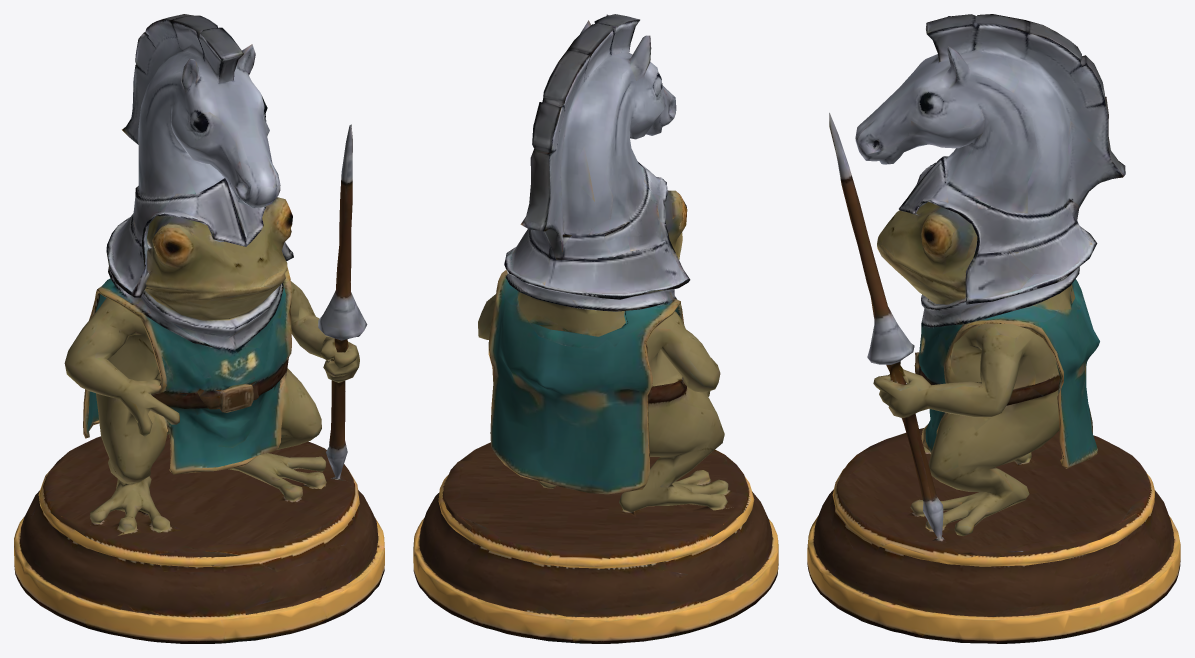
File: trellis-knight-ally.glb
The picture shows the model from 3 angles, left to right: view 1: azimuth 30°, elevation 25°; view 2: azimuth 150°, elevation 25°; view 3: azimuth 270°, elevation 25°; orthographic projection. The views are drawn at different scales.
Visible parts, largest first — view 1: world; view 2: world; view 3: world.
Boxes of the visible parts, <box> form: world: <box>14,14,384,643</box>; world: <box>413,14,778,643</box>; world: <box>807,14,1180,643</box>.
Bounding box in the file's own units: 0.6188 × 1 × 0.6185.
Materials: 1 (1 with a texture image).
